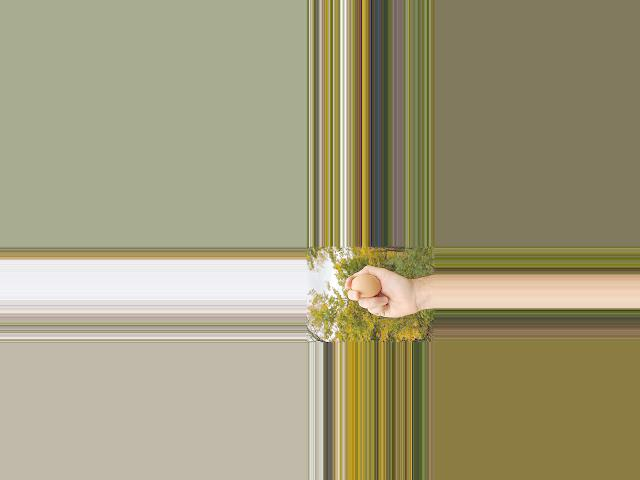egg: (351, 274, 380, 298)
